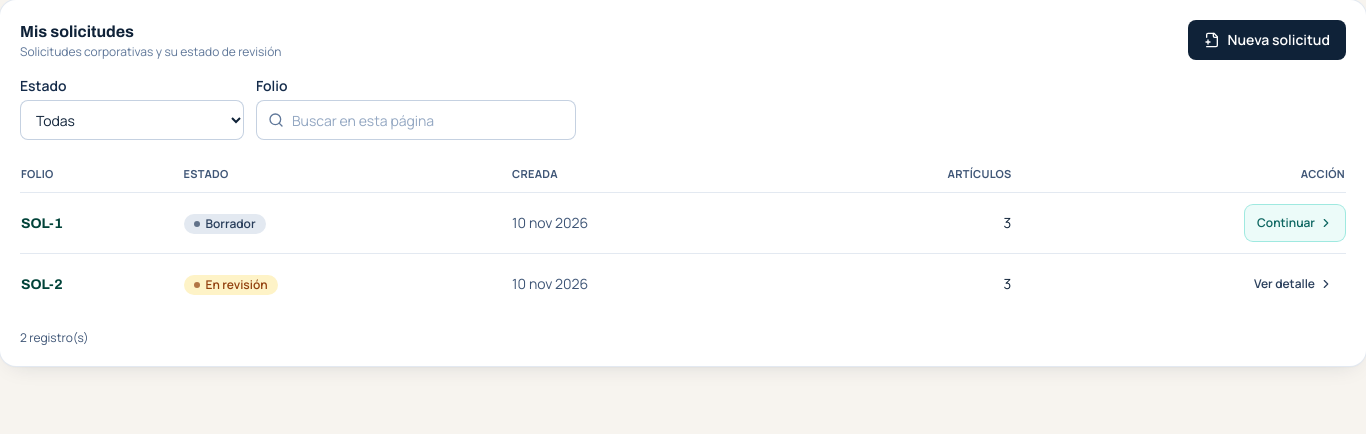
Test: lista de solicitudes del portal › el filtro por folio solo actúa sobre la página cargada
Expected: the table is shown, left=20, top=156, right=1346, bottom=314
Type "sol-2" into the field labelled "Folio" at coordinates (416, 120), box left=256, top=100, right=576, bottom=140
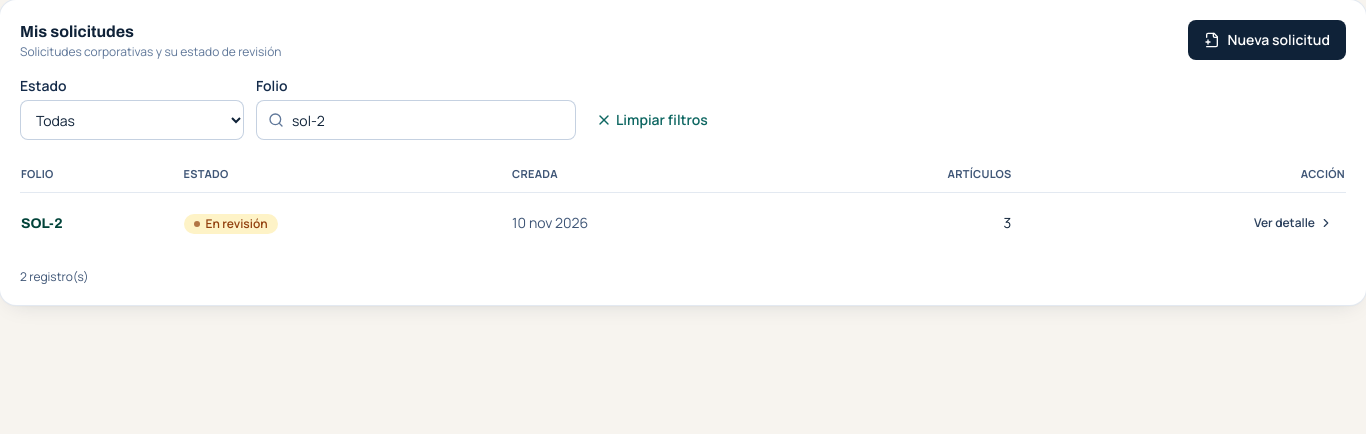
Expected: the link "SOL-2" is shown, left=21, top=216, right=62, bottom=230
Expected: the link "SOL-1" is gone
Replace the text in the field labelled "Folio" with "zzz" at coordinates (416, 120), box left=256, top=100, right=576, bottom=140
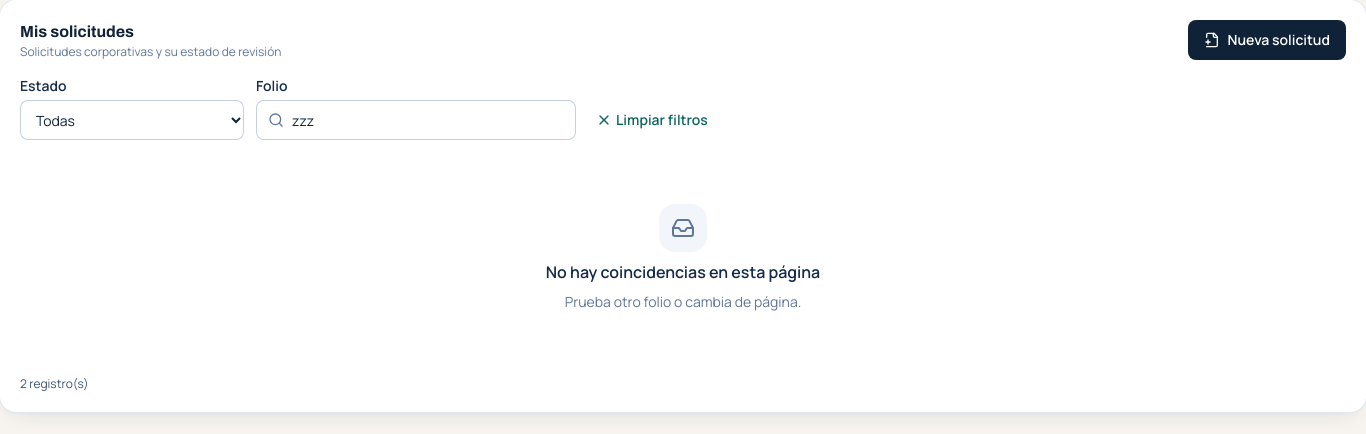
Expected: the text "No hay coincidencias en esta página" is shown, left=546, top=260, right=820, bottom=284
